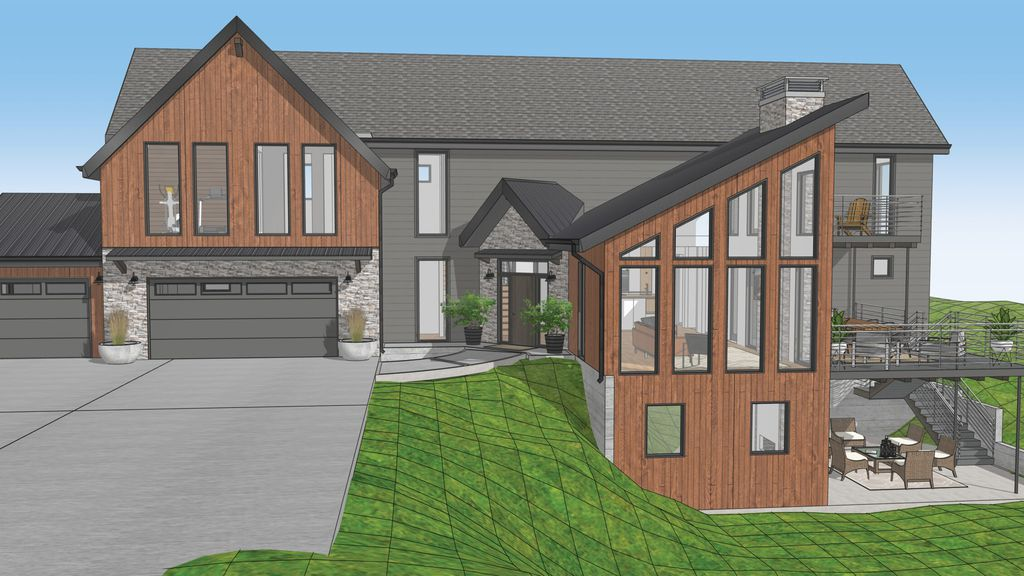Window: (724, 264, 766, 373), (619, 266, 659, 376), (191, 140, 231, 238), (779, 266, 817, 369), (298, 142, 339, 236), (676, 264, 711, 373), (143, 141, 181, 239), (779, 170, 819, 261), (253, 143, 290, 235), (416, 152, 452, 240), (414, 258, 449, 346), (643, 403, 687, 459), (727, 198, 767, 257), (754, 400, 789, 460), (670, 222, 714, 263), (872, 157, 892, 236), (624, 243, 661, 260), (871, 256, 892, 279)
